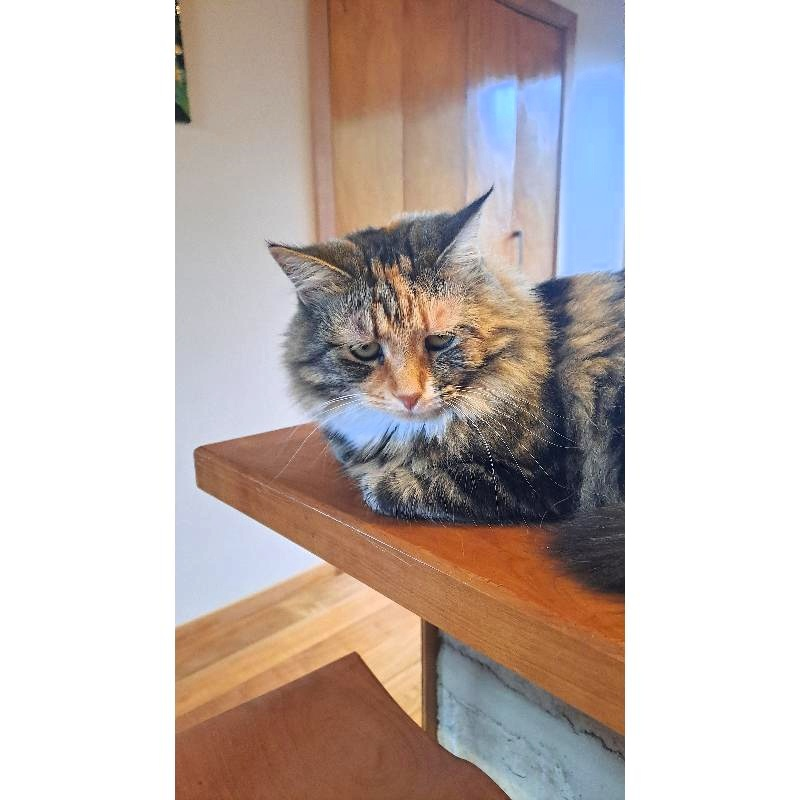red: (265, 184, 625, 600)
